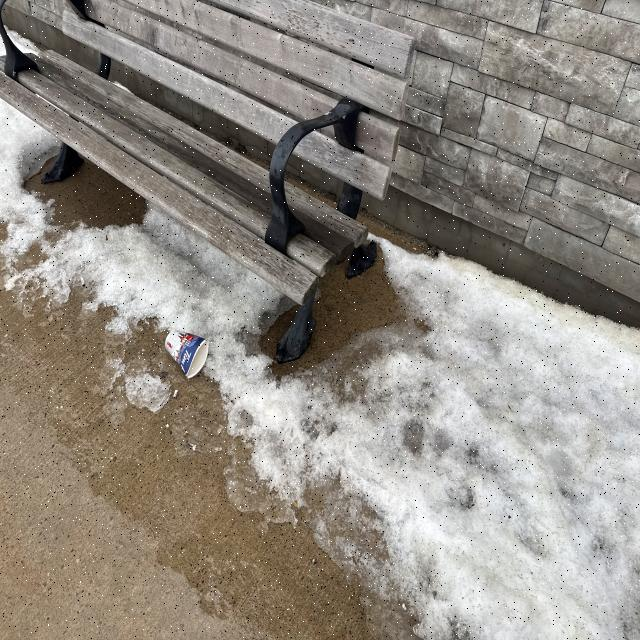Bench: (2, 3, 410, 328)
